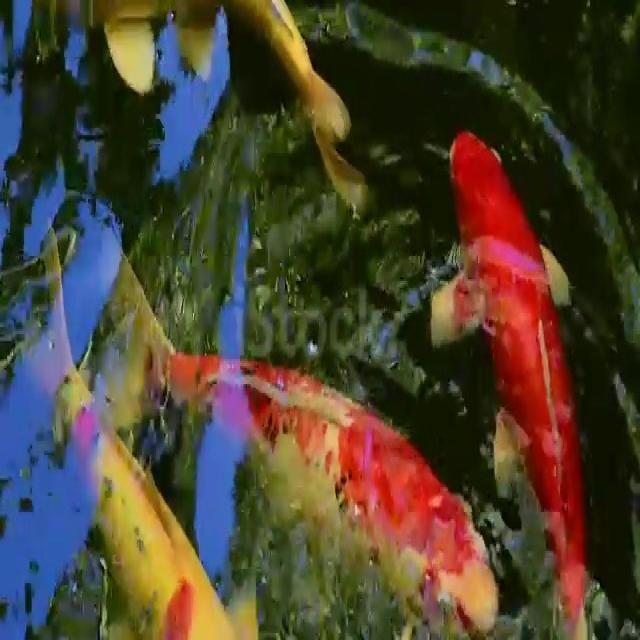fish: (136, 261, 514, 640), (424, 94, 609, 640), (14, 264, 266, 640), (70, 0, 410, 222)
